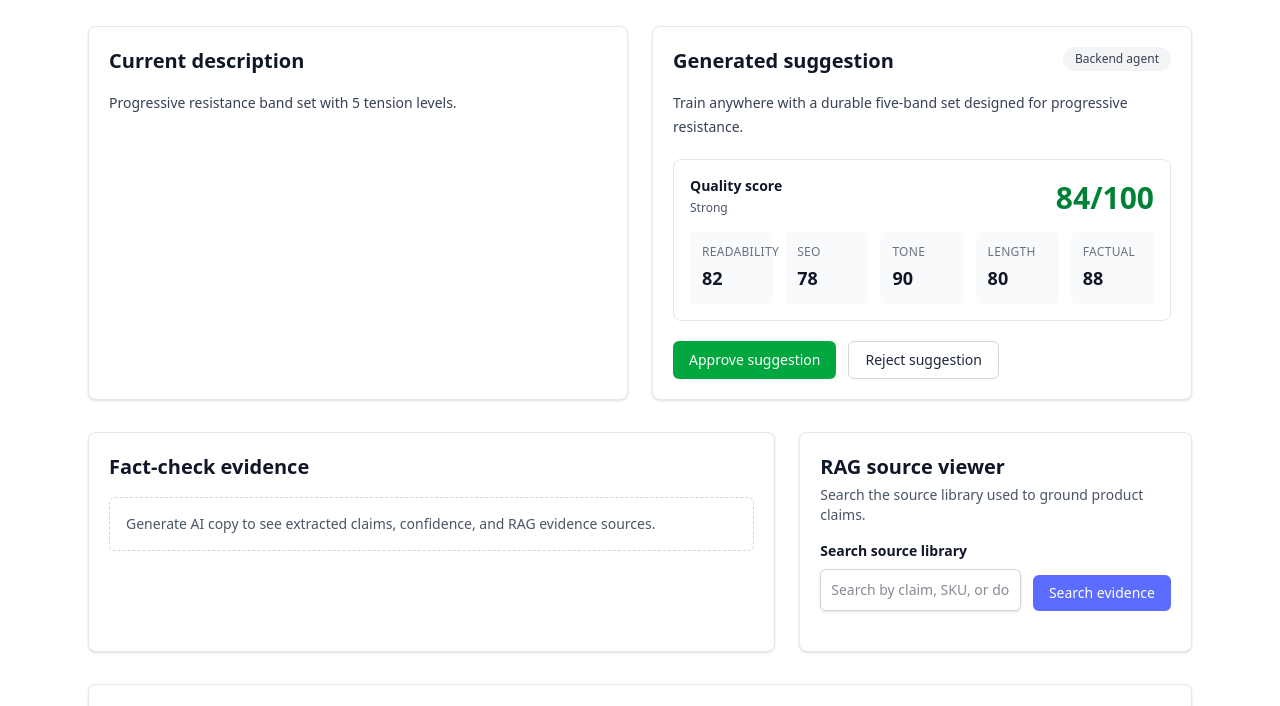
Test case: AIProductDescriptionPanel › approves, edits, and rejects a generated suggestion
(page scrolled)
Click the button "Approve suggestion" at (755,360), box [673, 341, 836, 379]
(page scrolled)
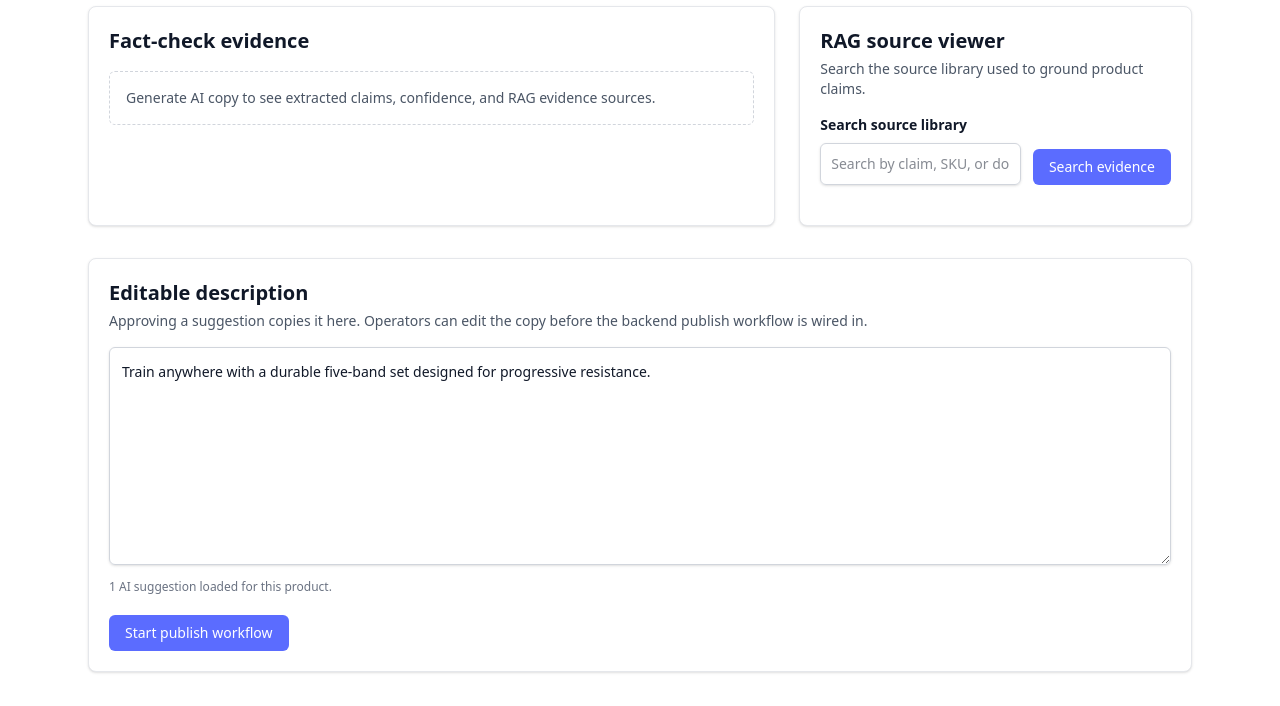
Expected: the text box labelled "Editable description" holds "Train anywhere with a durable five-band set designed for progressive resistance."
Replace the text in the text box labelled "Editable description" with "Operator-edited approved copy." at (640,456), box [109, 347, 1171, 565]
(page scrolled)
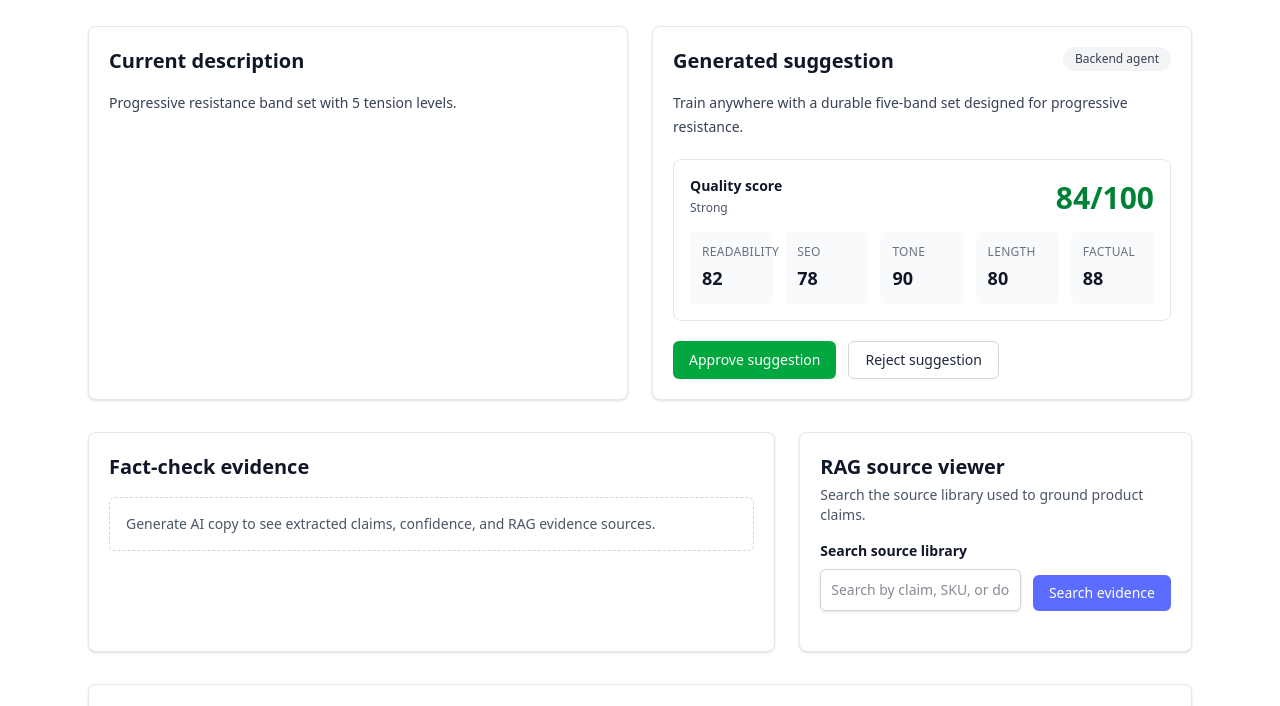
Click the button "Reject suggestion" at (924,360), box [848, 341, 999, 379]
(page scrolled)
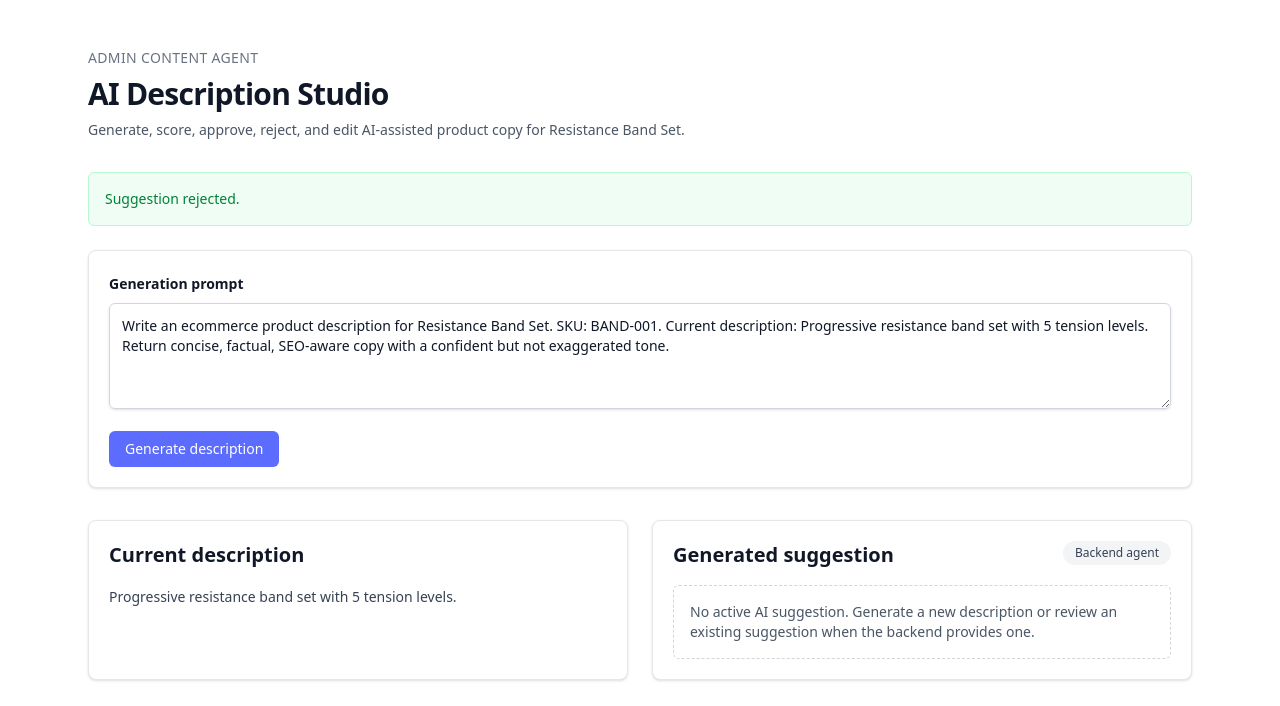
Expected: the text "No active AI suggestion" is shown, [690, 602, 1117, 641]
Expected: the text "Suggestion rejected." is shown, [88, 172, 1192, 226]
